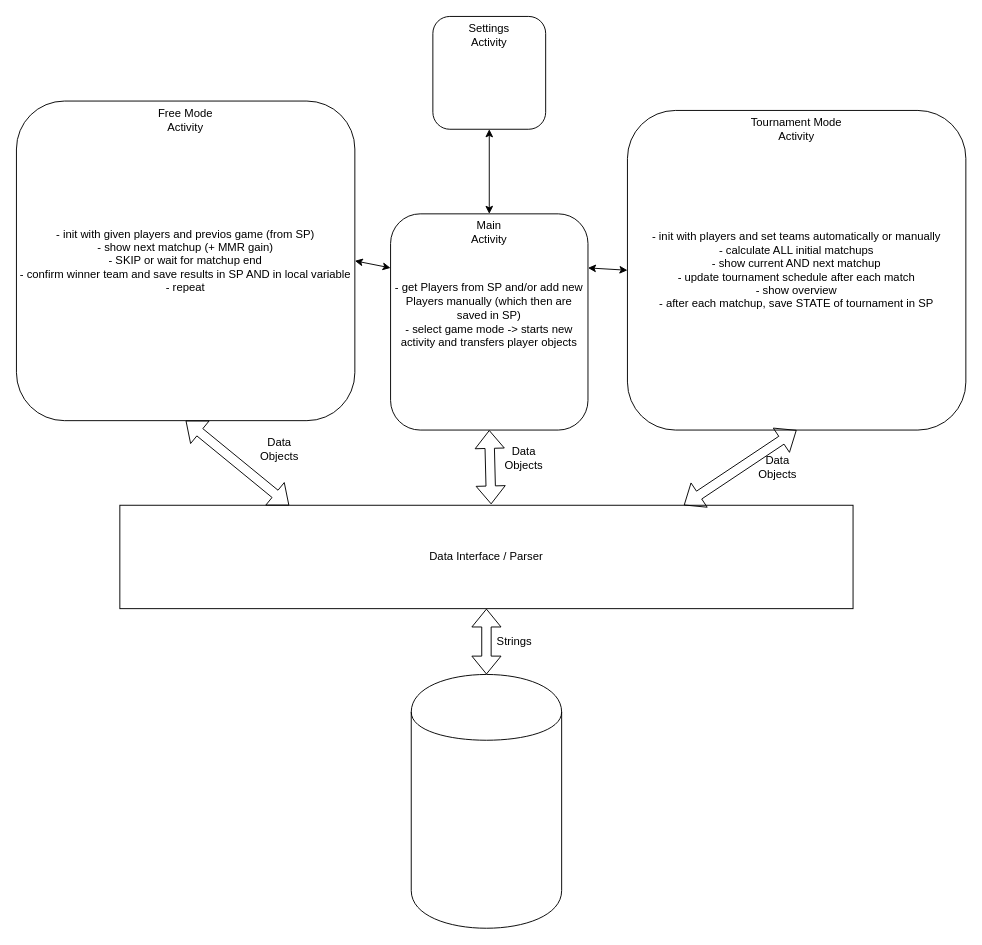
This 982x945 diagram has some shape labels left out. The box of each missing label's shape, as (x1, y1, x2, y2) in pixels:
- adjust parameters: (432, 16, 546, 129)
Shared Preferences (SP): (410, 674, 562, 928)
